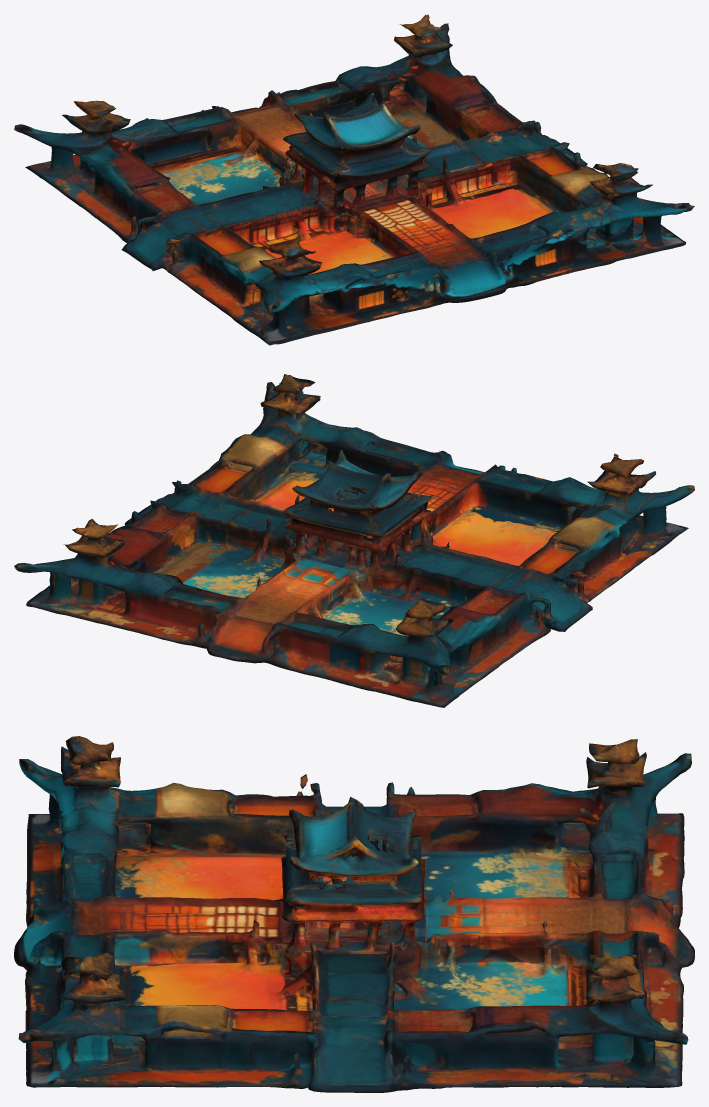
The model's file is taipei-eth.glb.
3 views of the same model, one above another, from view 1: azimuth 30°, elevation 25°; view 2: azimuth 150°, elevation 25°; view 3: azimuth 270°, elevation 25° (orthographic). The views are drawn at different scales.
Bounding box in the file's own units: 1.95 × 0.4298 × 1.95.
Materials: 1 (1 with a texture image).
